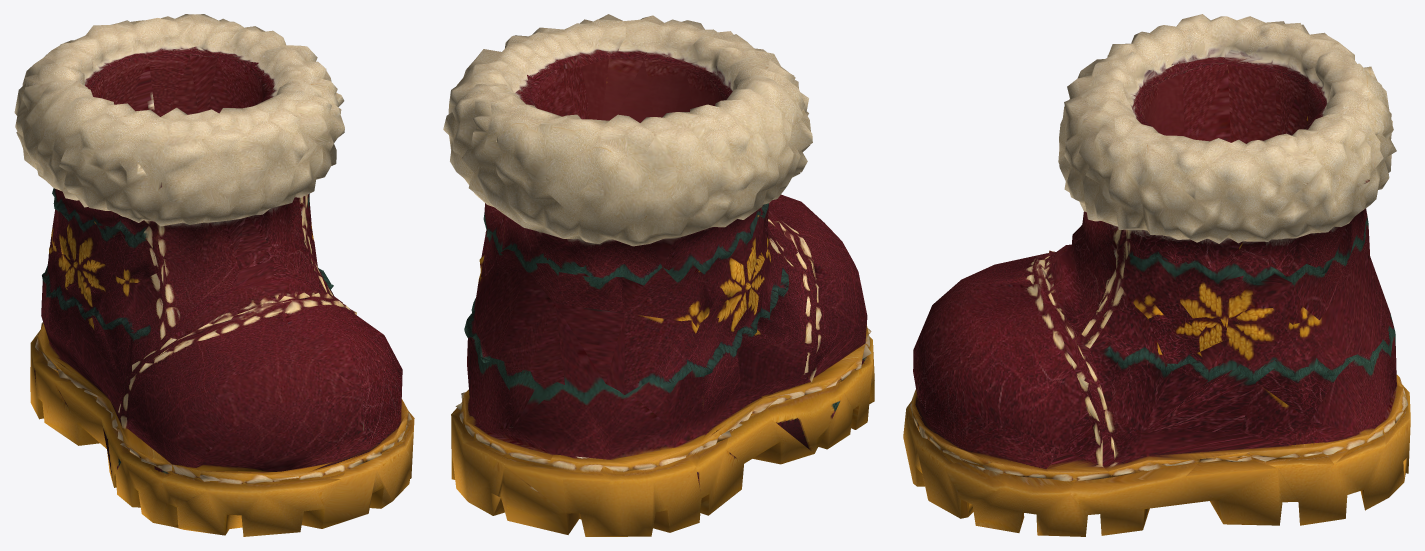
Rendered from boot-left.fbx.
The picture shows the model from 3 angles, left to right: view 1: azimuth 30°, elevation 25°; view 2: azimuth 150°, elevation 25°; view 3: azimuth 270°, elevation 25°; orthographic projection. The views are drawn at different scales.
Parts seen in each view (by area): view 1: boot-left; view 2: boot-left; view 3: boot-left.
Boxes of the visible parts, <box> form: boot-left: <box>14,14,414,536</box>; boot-left: <box>443,14,874,536</box>; boot-left: <box>903,14,1410,536</box>.
Bounding box in the file's own units: 18.34 × 22.13 × 25.71.
1 material, 1 textured.
